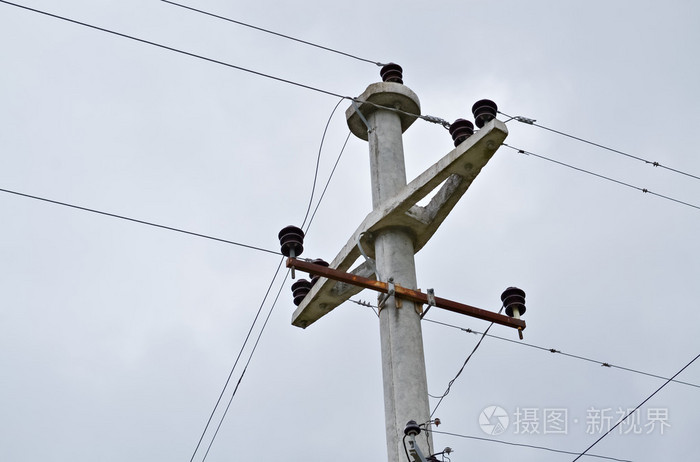insulator: (500, 286, 528, 316), (277, 225, 303, 256), (471, 97, 500, 124), (378, 61, 405, 85), (288, 278, 310, 306), (449, 120, 473, 141)
